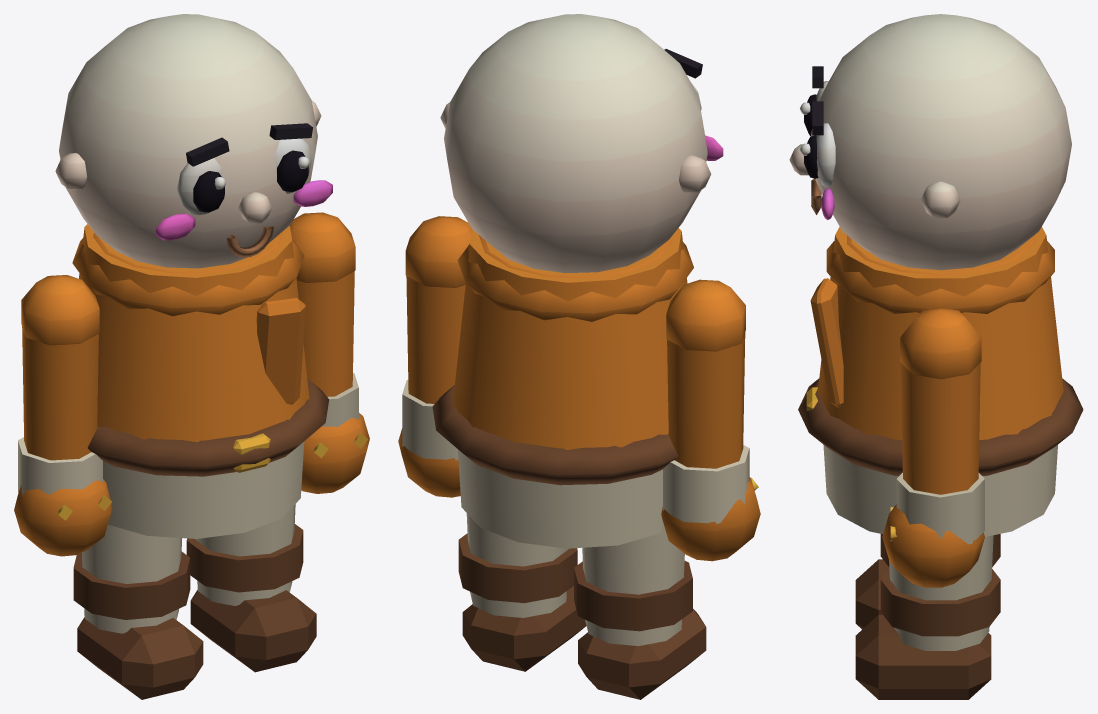
The model's file is hero_sora.glb.
3 renders of one model, left to right at view 1: azimuth 30°, elevation 25°; view 2: azimuth 150°, elevation 25°; view 3: azimuth 270°, elevation 25°, orthographic.
Parts seen in each view (by area): view 1: body_t0_palette, arml_t0_palette, legl_t0_palette, legr_t0_palette, armr_t0_palette; view 2: body_t0_palette, arml_t0_palette, legl_t0_palette, armr_t0_palette, legr_t0_palette; view 3: body_t0_palette, armr_t0_palette, legr_t0_palette, legl_t0_palette.
Part boxes in pixels (left/top/right/bottom): body_t0_palette: left=55, top=14, right=332, bottom=538; arml_t0_palette: left=14, top=275, right=112, bottom=556; legl_t0_palette: left=73, top=524, right=203, bottom=699; legr_t0_palette: left=186, top=504, right=316, bottom=672; armr_t0_palette: left=289, top=212, right=369, bottom=493; body_t0_palette: left=432, top=14, right=723, bottom=548; arml_t0_palette: left=661, top=279, right=760, bottom=561; legl_t0_palette: left=574, top=519, right=706, bottom=699; armr_t0_palette: left=398, top=216, right=472, bottom=497; legr_t0_palette: left=458, top=513, right=586, bottom=671; body_t0_palette: left=789, top=14, right=1083, bottom=536; armr_t0_palette: left=882, top=307, right=984, bottom=587; legr_t0_palette: left=855, top=535, right=1000, bottom=699; legl_t0_palette: left=855, top=534, right=1000, bottom=629.
Size of the model in its own units: 0.2765 by 0.492 by 0.206.
